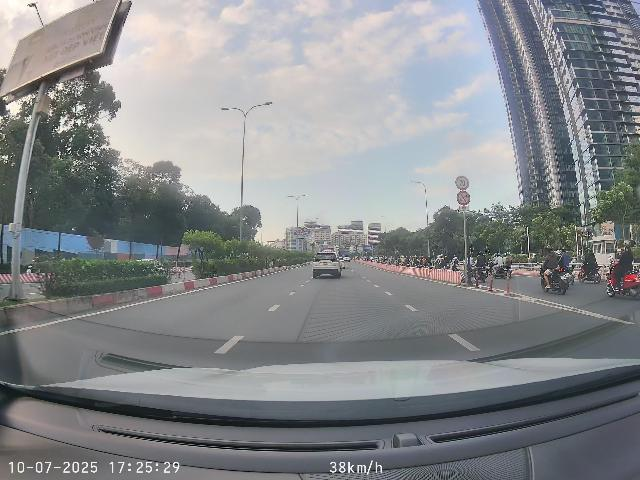127-toc-do-toi-da-70: (455, 176, 469, 190)
